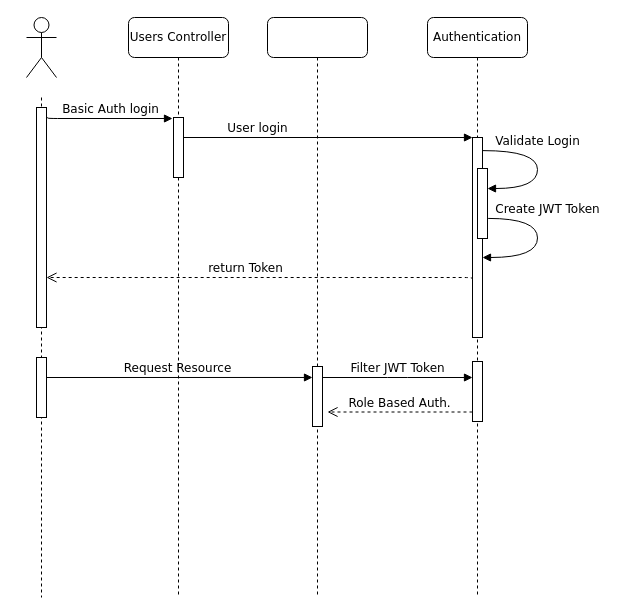
Image size: 617x616. Some labels were removed from this diagram. Each missing label, with the box of its shape:
Any User: (26, 16, 56, 78)
Web Service: (266, 16, 368, 598)
